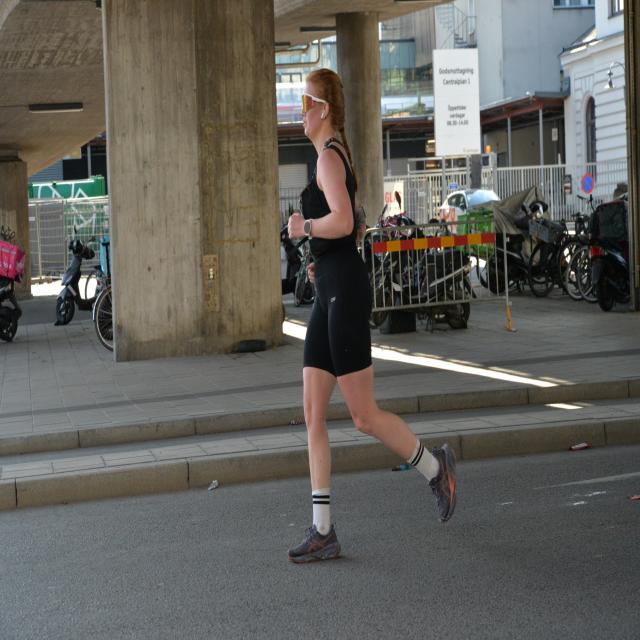runner-detect: (274, 41, 462, 597)
